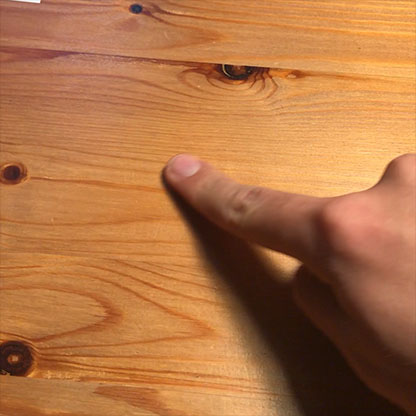fingertip: (160, 141, 208, 191)
